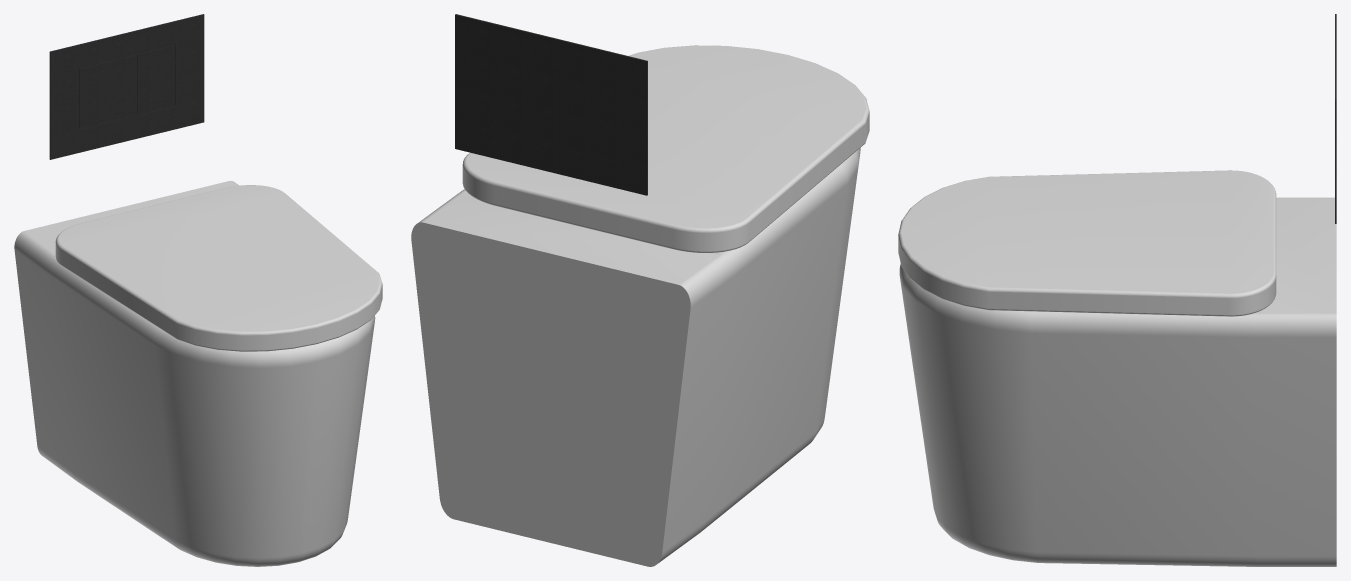
3 views of the same model, side by side, from view 1: azimuth 30°, elevation 25°; view 2: azimuth 150°, elevation 25°; view 3: azimuth 270°, elevation 25° (orthographic). The views are drawn at different scales.
Visible parts, largest first — view 1: group_2, group_1, _48981_c3d_A85.dwg (×3); view 2: group_2, group_1, _48981_c3d_A85.dwg; view 3: group_2, group_1.
Part boxes in pixels (left/top/right/bottom): group_2: left=14, top=180, right=375, bottom=566; group_1: left=55, top=185, right=382, bottom=351; _48981_c3d_A85.dwg (×3): left=49, top=14, right=204, bottom=159; group_2: left=411, top=148, right=860, bottom=566; group_1: left=462, top=45, right=869, bottom=252; _48981_c3d_A85.dwg: left=455, top=14, right=647, bottom=195; group_2: left=899, top=197, right=1336, bottom=566; group_1: left=898, top=170, right=1276, bottom=316.
Size of the model in its own units: 14.17 by 20.87 by 24.43.
Materials: 2 (1 with a texture image).
